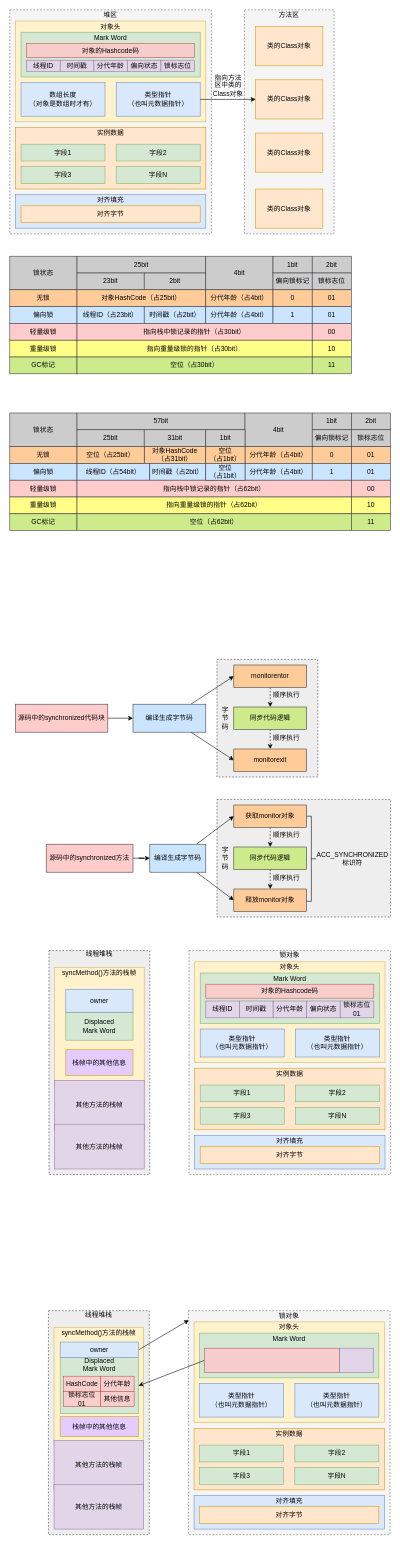
Image size: 400x1544. Some labels were removed from this diagram. The shapes that lost their labels are listed below. From the top down, each one's box as (x1, y1, x2, y2) in pixels, then its label:
(204, 1348, 340, 1372): 指向栈中锁记录的指针
(339, 1348, 373, 1372): 锁标志位 00
